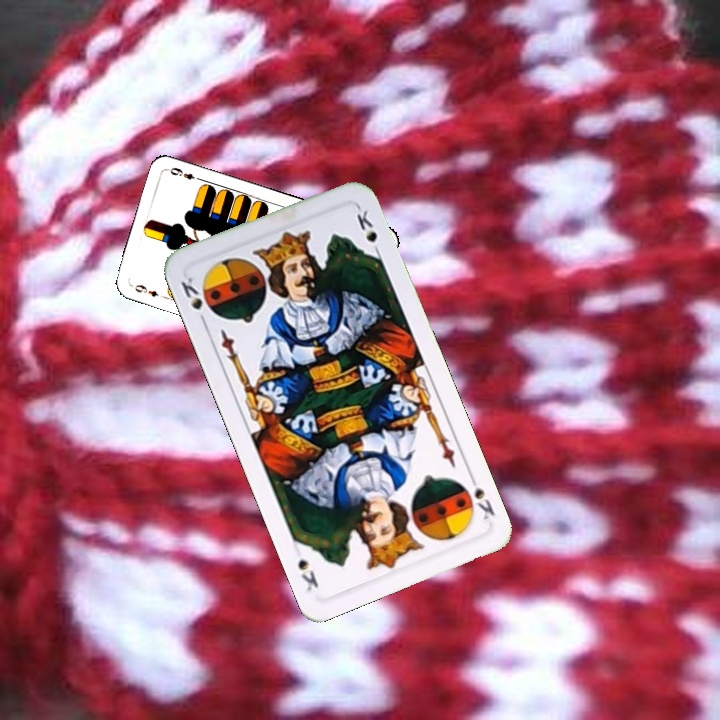E9: (128, 281, 167, 301)
SK: (176, 273, 210, 329), (464, 469, 498, 522)
